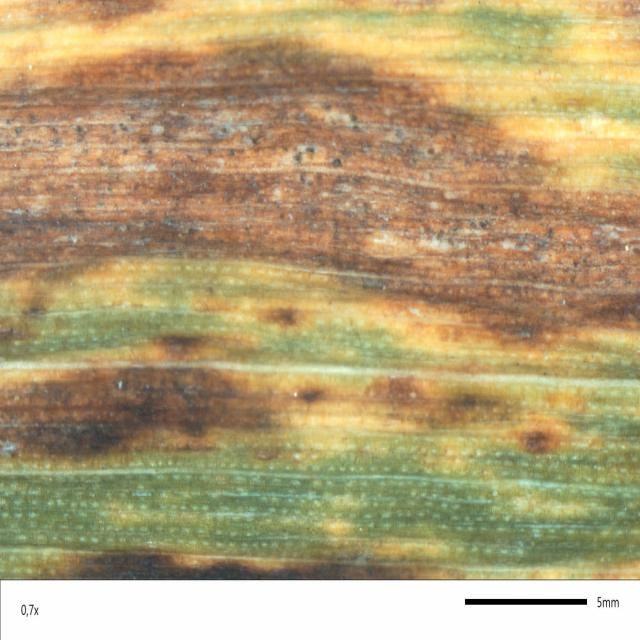wheat-septoria: (0, 34, 640, 360), (0, 329, 592, 482), (7, 531, 479, 578), (20, 0, 162, 35)
